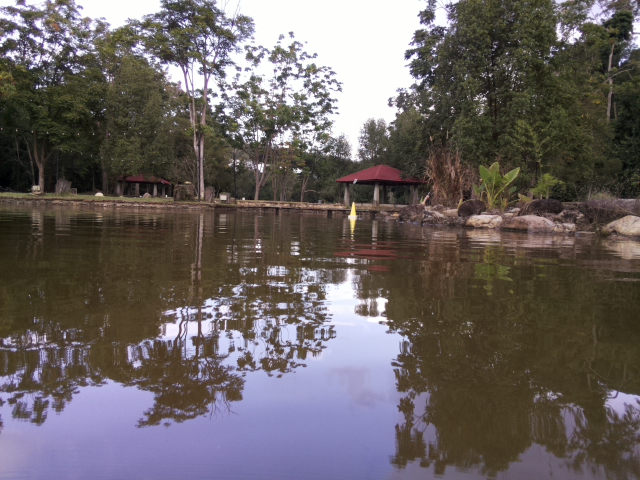checkpoint: (346, 202, 362, 221)
